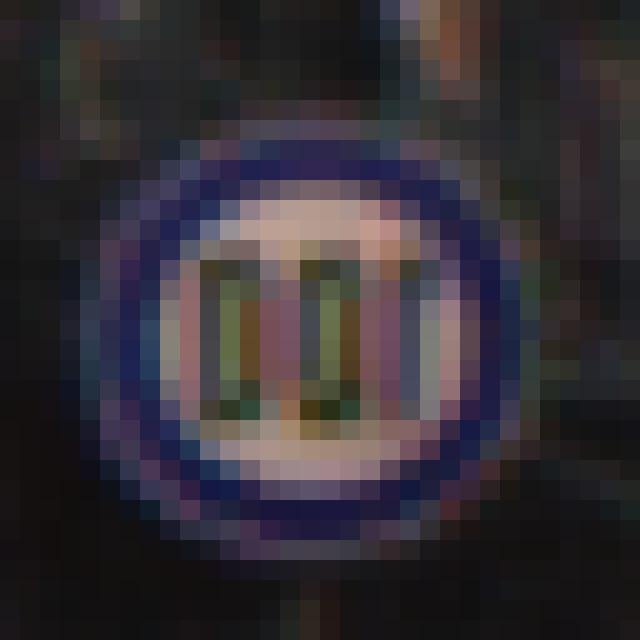SPEED LIMIT 100: (109, 145, 522, 558)
